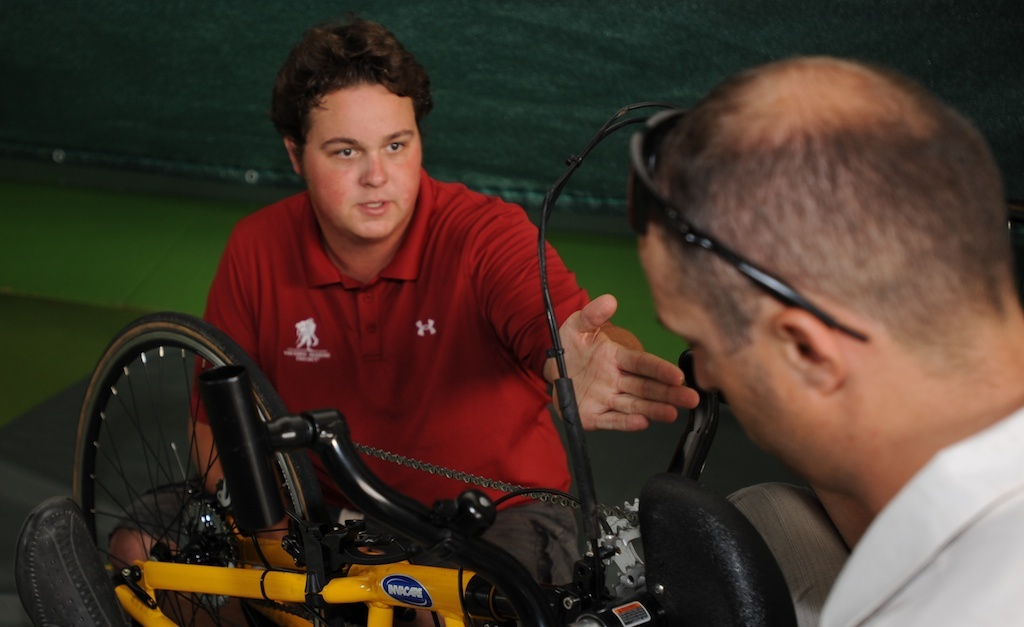Human_hand: (551, 293, 700, 432)
